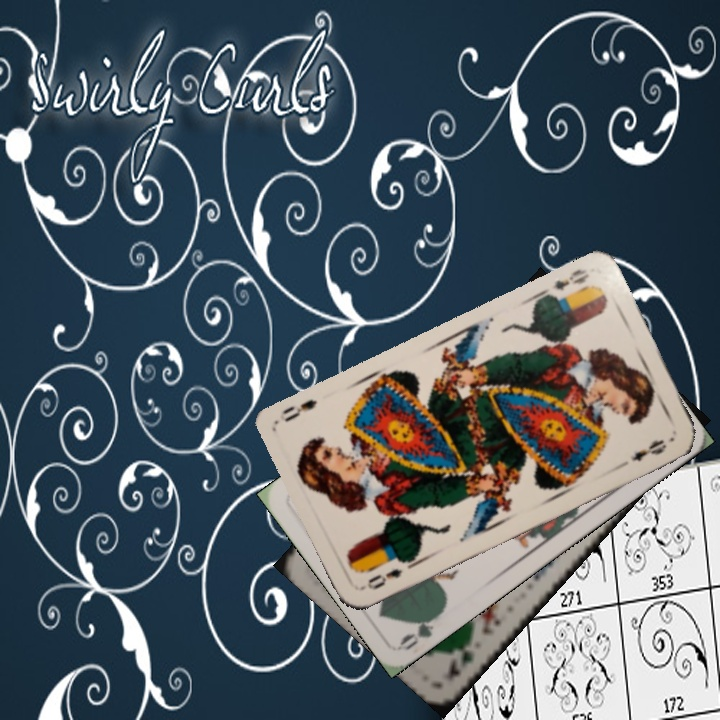EO: (539, 265, 592, 304), (363, 564, 405, 593)
GK: (442, 632, 477, 682)
GO: (396, 607, 447, 653)
